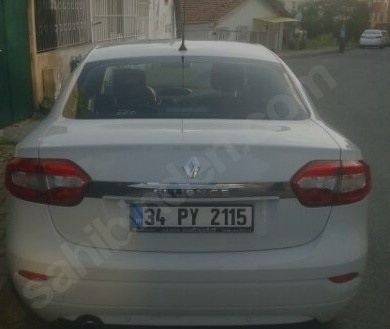plaka: (143, 201, 254, 229)
